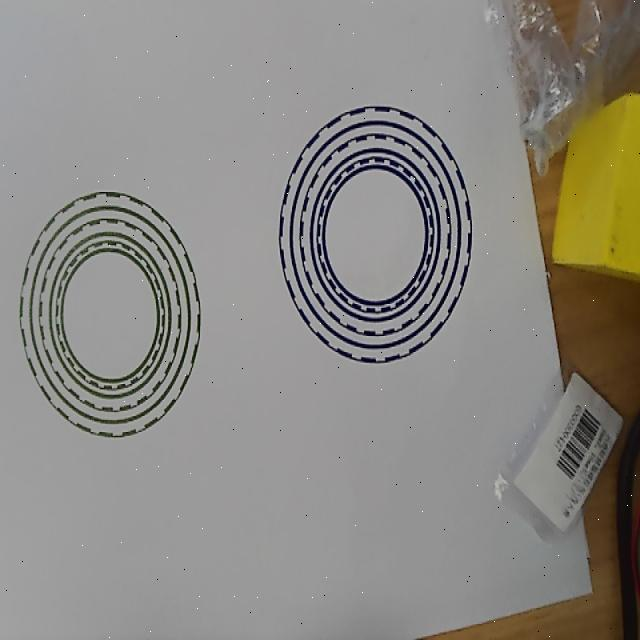b: (279, 105, 473, 364)
g: (19, 191, 201, 439)
